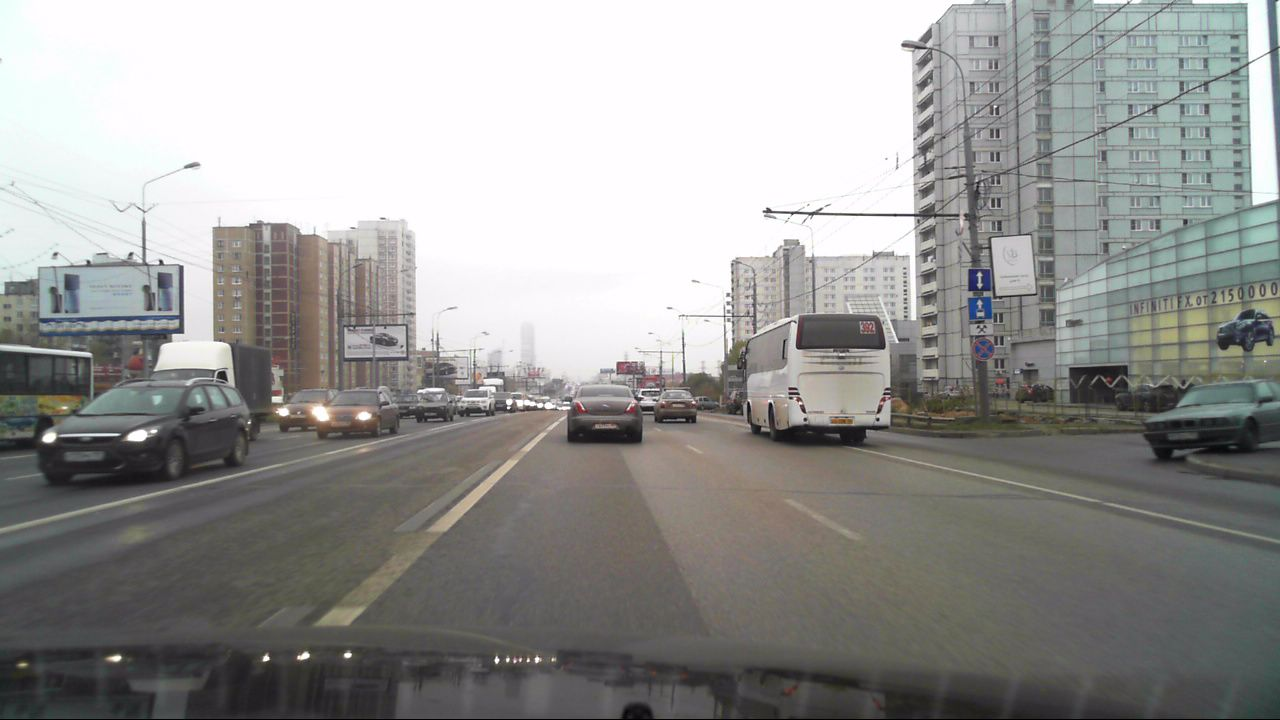No Parking: (971, 337, 995, 361)
